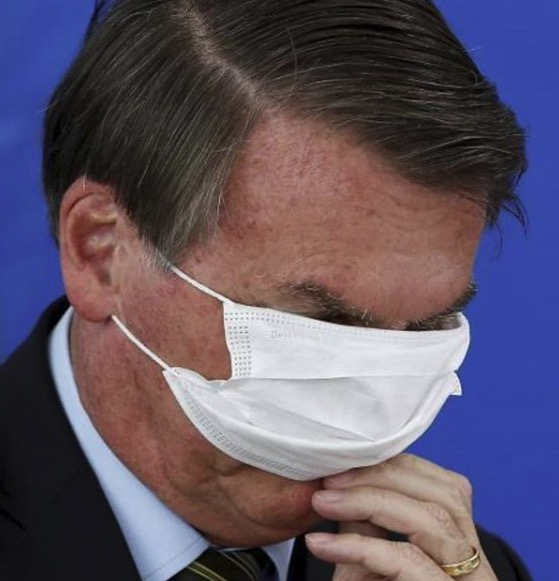mask_weared_incorrect: (181, 229, 505, 554)
